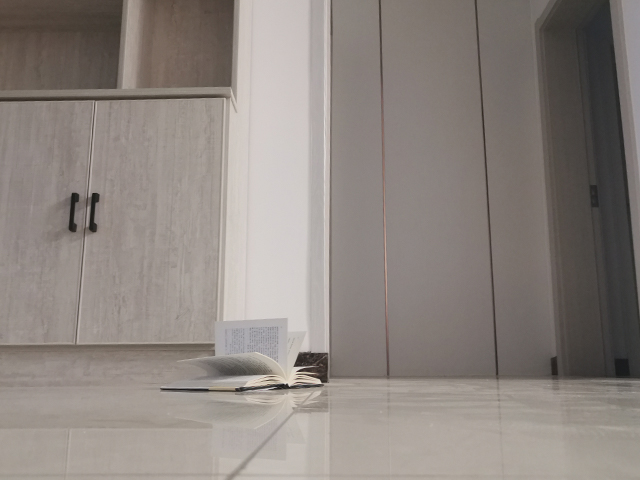book: (157, 317, 324, 394)
cabinet: (1, 80, 232, 395)
